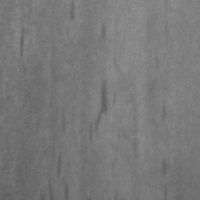inclusion: (42, 101, 74, 199), (84, 76, 125, 142), (11, 22, 34, 63), (156, 95, 172, 126), (157, 153, 172, 179)
